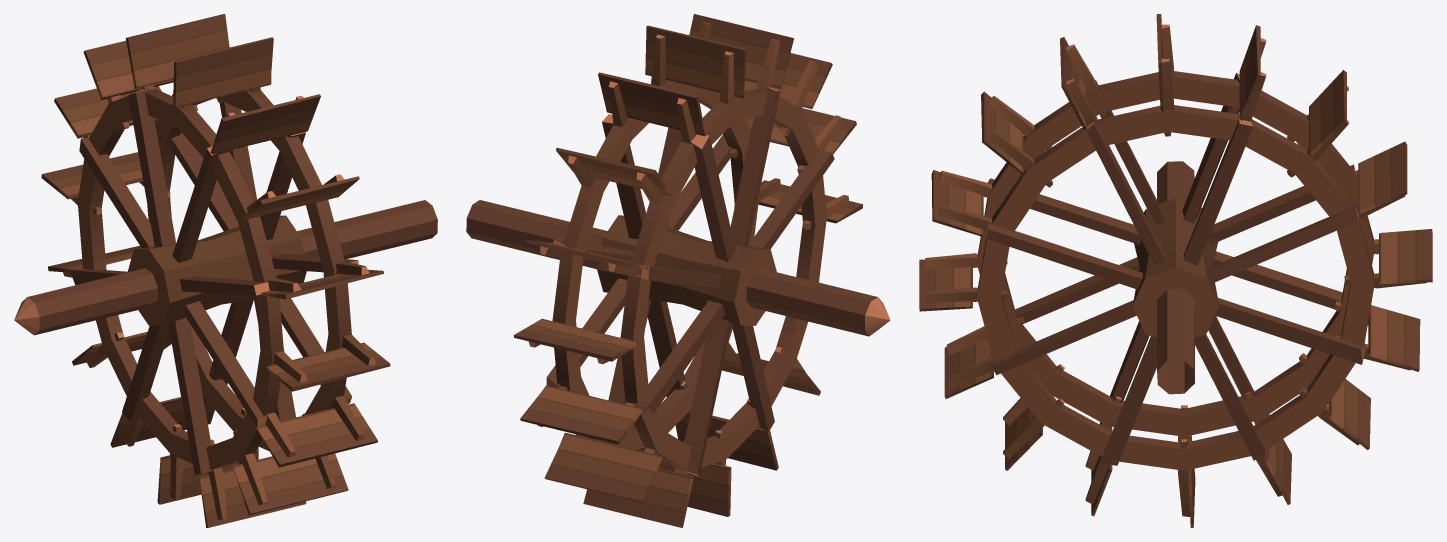
The model's file is water_wheel.obj.
The picture shows the model from 3 angles, left to right: view 1: azimuth 30°, elevation 25°; view 2: azimuth 150°, elevation 25°; view 3: azimuth 270°, elevation 25°; orthographic projection. The views are drawn at different scales.
Visible parts, largest first — view 1: Mill-water-wheel_Mesh.002; view 2: Mill-water-wheel_Mesh.002; view 3: Mill-water-wheel_Mesh.002.
Part boxes in pixels (x1,y1,x2,y2): Mill-water-wheel_Mesh.002: (14, 14, 437, 527); Mill-water-wheel_Mesh.002: (466, 14, 890, 527); Mill-water-wheel_Mesh.002: (919, 14, 1432, 527).
Bounding box in the file's own units: 6.65 × 6.97 × 6.97.
1 material, 1 textured.
